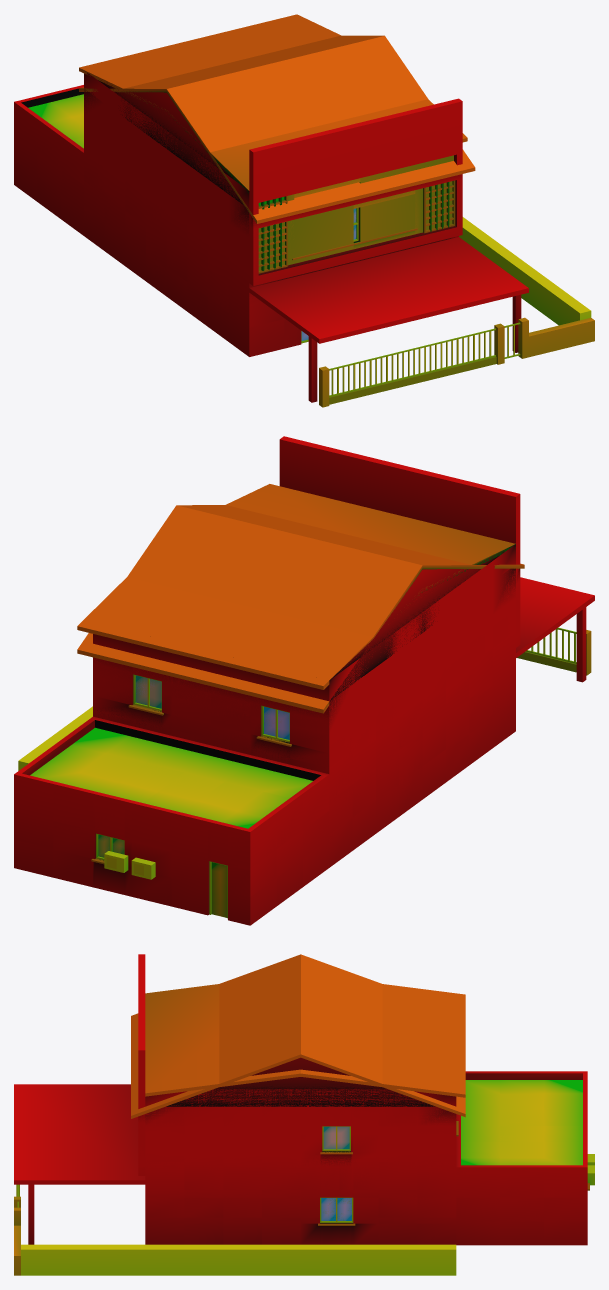
Rendered from semi_d.glb.
The picture shows the model from 3 angles, top to bottom: view 1: azimuth 30°, elevation 25°; view 2: azimuth 150°, elevation 25°; view 3: azimuth 270°, elevation 25°; orthographic projection. The views are drawn at different scales.
Visible parts, largest first — view 1: semi_d__gable__LOD0, semi_d__modern__LOD0; view 2: semi_d__gable__LOD0, semi_d__modern__LOD0; view 3: semi_d__gable__LOD0, semi_d__modern__LOD0.
Part boxes in pixels (left/top/right/bottom): semi_d__gable__LOD0: left=14, top=35, right=594, bottom=407; semi_d__modern__LOD0: left=14, top=14, right=467, bottom=356; semi_d__gable__LOD0: left=14, top=505, right=594, bottom=925; semi_d__modern__LOD0: left=23, top=436, right=520, bottom=924; semi_d__gable__LOD0: left=14, top=954, right=594, bottom=1275; semi_d__modern__LOD0: left=138, top=954, right=587, bottom=1245.
Size of what is drawn, in the model's own units: 12.5 by 9 by 24.31.
